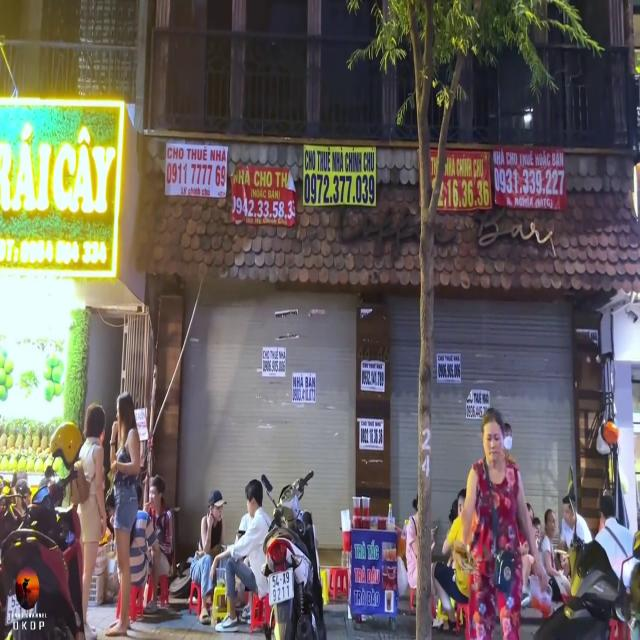bien_trang: (268, 569, 298, 604)
